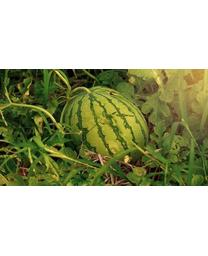watermelon: (61, 87, 148, 168)
